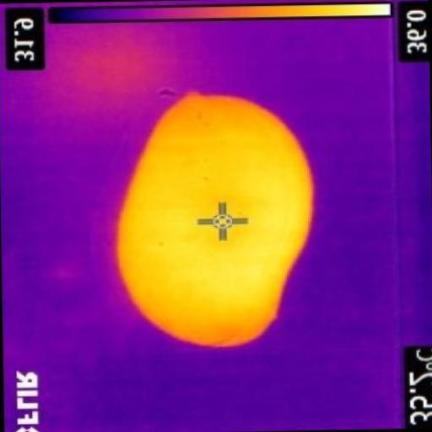mango: (118, 94, 312, 346)
